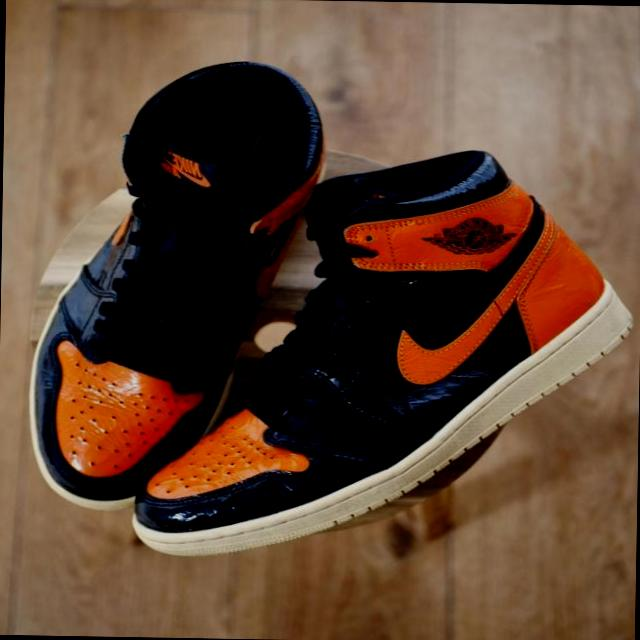nike_original_jordan: (120, 150, 640, 568), (16, 57, 332, 512)
